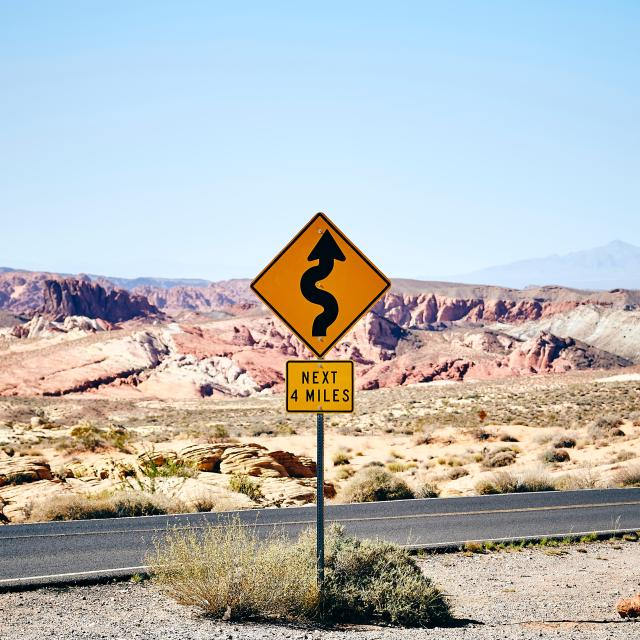Metal: (250, 213, 394, 468)
